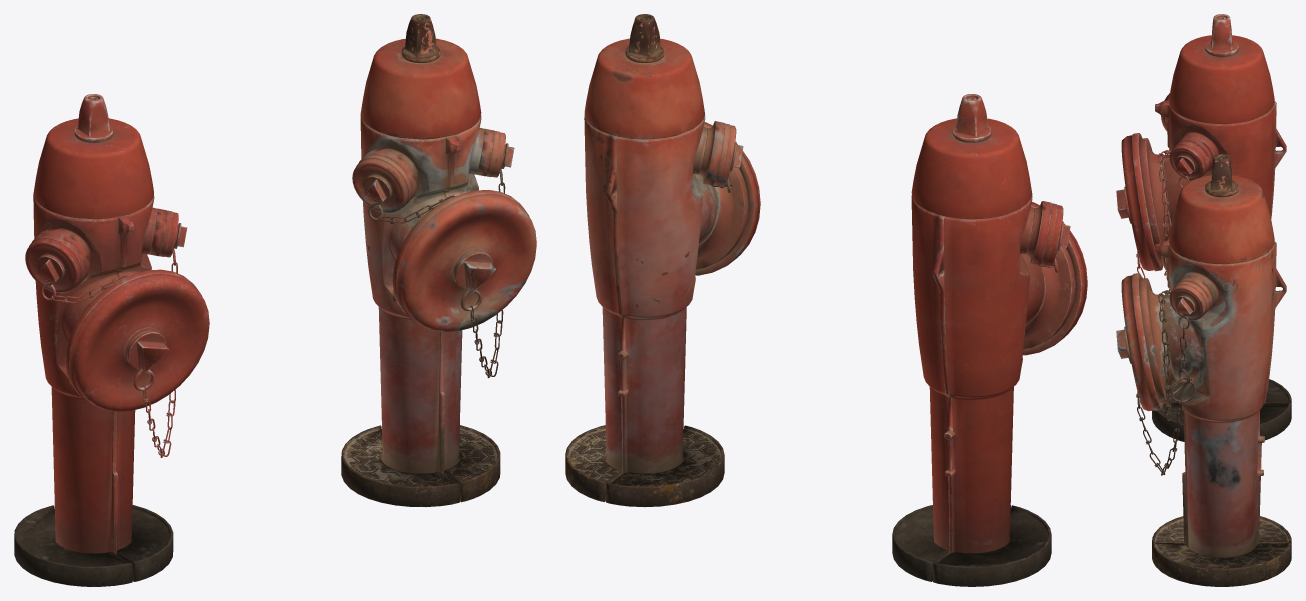
File: fire_hydrant-1k.glb
3 renders of one model, left to right at view 1: azimuth 30°, elevation 25°; view 2: azimuth 150°, elevation 25°; view 3: azimuth 270°, elevation 25°, orthographic. The views are drawn at different scales.
Visible parts, largest first — view 1: fire_hydrant_aged, fire_hydrant, fire_hydrant_cap_01, fire_hydrant_cap_01_aged, fire_hydrant_cap_03_aged, fire_hydrant_cap_03, fire_hydrant_chain_aged, fire_hydrant_chain, fire_hydrant_cap_02, fire_hydrant_cap_02_aged; view 2: fire_hydrant_aged, fire_hydrant, fire_hydrant_cap_01_aged, fire_hydrant_cap_01, fire_hydrant_cap_03, fire_hydrant_cap_03_aged; view 3: fire_hydrant_aged, fire_hydrant, fire_hydrant_cap_01, fire_hydrant_cap_01_aged, fire_hydrant_chain_aged, fire_hydrant_cap_02_aged, fire_hydrant_cap_02, fire_hydrant_chain.
Part boxes in pixels (left/top/right/bottom): fire_hydrant_aged: left=341, top=14, right=500, bottom=506; fire_hydrant: left=14, top=94, right=173, bottom=586; fire_hydrant_cap_01: left=65, top=269, right=209, bottom=411; fire_hydrant_cap_01_aged: left=392, top=190, right=536, bottom=331; fire_hydrant_cap_03_aged: left=352, top=155, right=411, bottom=213; fire_hydrant_cap_03: left=25, top=235, right=84, bottom=293; fire_hydrant_chain_aged: left=368, top=145, right=505, bottom=378; fire_hydrant_chain: left=41, top=224, right=178, bottom=457; fire_hydrant_cap_02: left=159, top=210, right=187, bottom=257; fire_hydrant_cap_02_aged: left=486, top=130, right=514, bottom=177; fire_hydrant_aged: left=565, top=14, right=748, bottom=507; fire_hydrant: left=892, top=94, right=1075, bottom=586; fire_hydrant_cap_01_aged: left=695, top=122, right=760, bottom=275; fire_hydrant_cap_01: left=1022, top=202, right=1087, bottom=355; fire_hydrant_cap_03: left=1041, top=203, right=1070, bottom=266; fire_hydrant_cap_03_aged: left=713, top=123, right=743, bottom=186; fire_hydrant_aged: left=1139, top=154, right=1291, bottom=586; fire_hydrant: left=1139, top=14, right=1291, bottom=441; fire_hydrant_cap_01: left=1116, top=133, right=1162, bottom=271; fire_hydrant_cap_01_aged: left=1116, top=273, right=1162, bottom=411; fire_hydrant_chain_aged: left=1136, top=289, right=1196, bottom=475; fire_hydrant_cap_02_aged: left=1169, top=281, right=1209, bottom=320; fire_hydrant_cap_02: left=1169, top=141, right=1209, bottom=180; fire_hydrant_chain: left=1136, top=149, right=1194, bottom=280.
Size of the model in its own units: 0.8746 by 0.7995 by 0.3173.
Materials: 2 (2 with a texture image).
